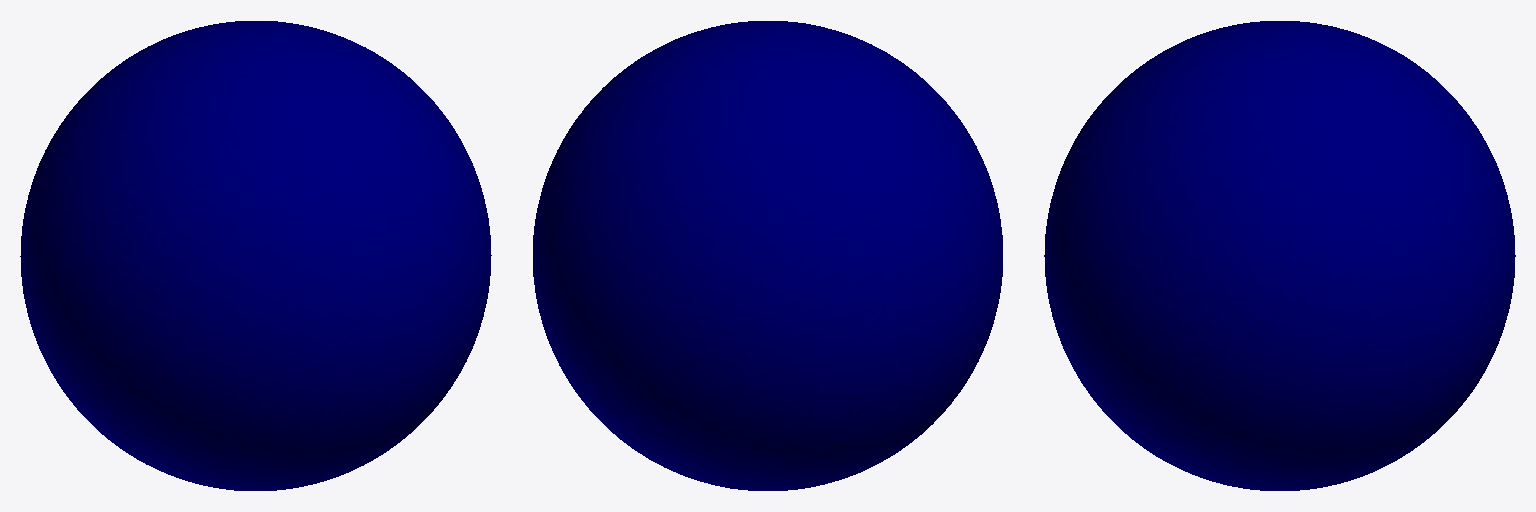
Rendered from blue_orb.obj.
The picture shows the model from 3 angles: view 1: azimuth 30°, elevation 25°; view 2: azimuth 150°, elevation 25°; view 3: azimuth 270°, elevation 25°; orthographic projection.
Visible parts, largest first — view 1: pPlatonic1; view 2: pPlatonic1; view 3: pPlatonic1.
Boxes of the visible parts, <box> form: pPlatonic1: <box>20,21,491,490</box>; pPlatonic1: <box>533,21,1002,490</box>; pPlatonic1: <box>1044,21,1515,490</box>.
Size of the model in its own units: 2 by 2 by 2.